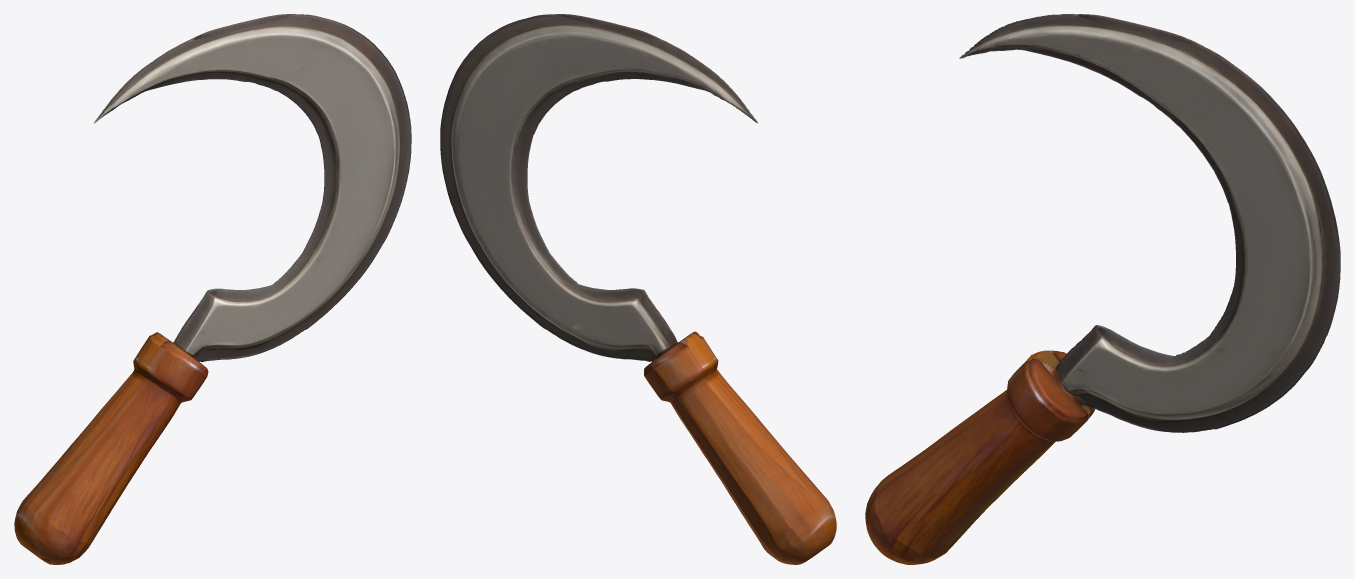
File: sickle.glb
The picture shows the model from 3 angles, left to right: view 1: azimuth 30°, elevation 25°; view 2: azimuth 150°, elevation 25°; view 3: azimuth 330°, elevation 25°; orthographic projection. The views are drawn at different scales.
Bounding box in the file's own units: 1.66 × 2 × 0.301.
1 material, 1 textured.
